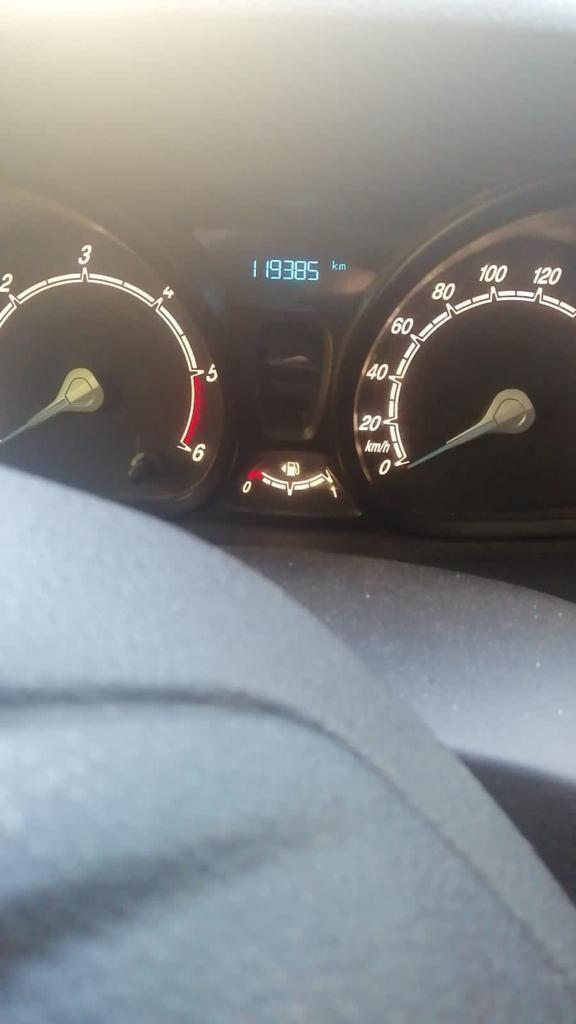1: (249, 257, 259, 279), (262, 258, 269, 280)
3: (281, 259, 293, 280)
5: (307, 259, 319, 280)
8: (294, 259, 306, 281)
9: (270, 258, 281, 280)
X: (331, 259, 338, 271), (338, 262, 346, 271)
odometer: (197, 240, 379, 318)
